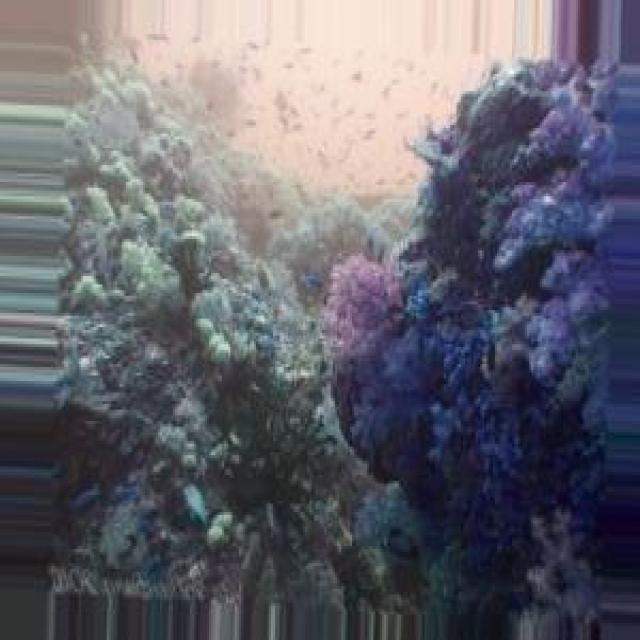Healthy: (52, 64, 426, 607), (404, 64, 615, 627)
